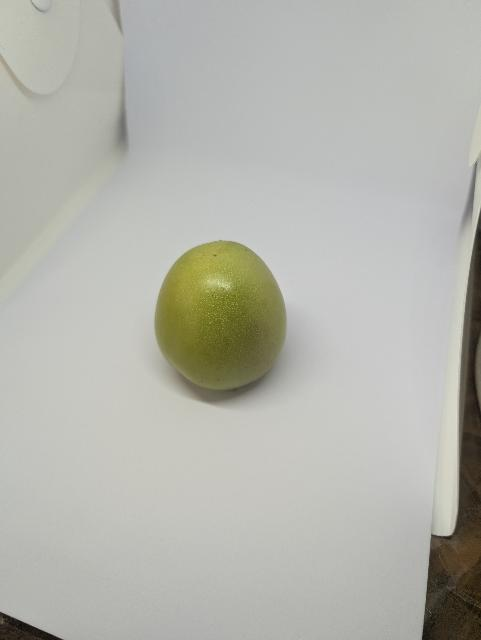green: (144, 234, 300, 405)
